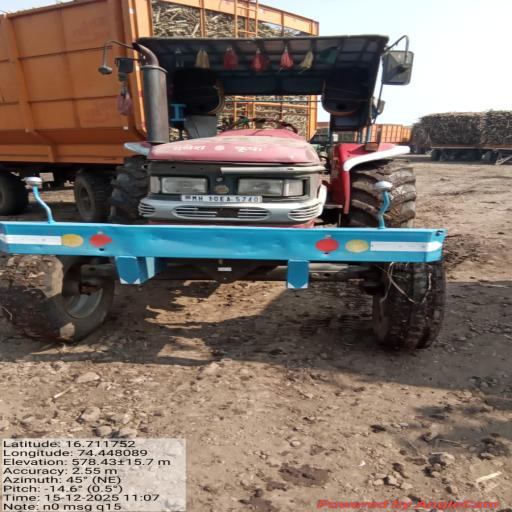number_plate: (181, 195, 262, 203)
